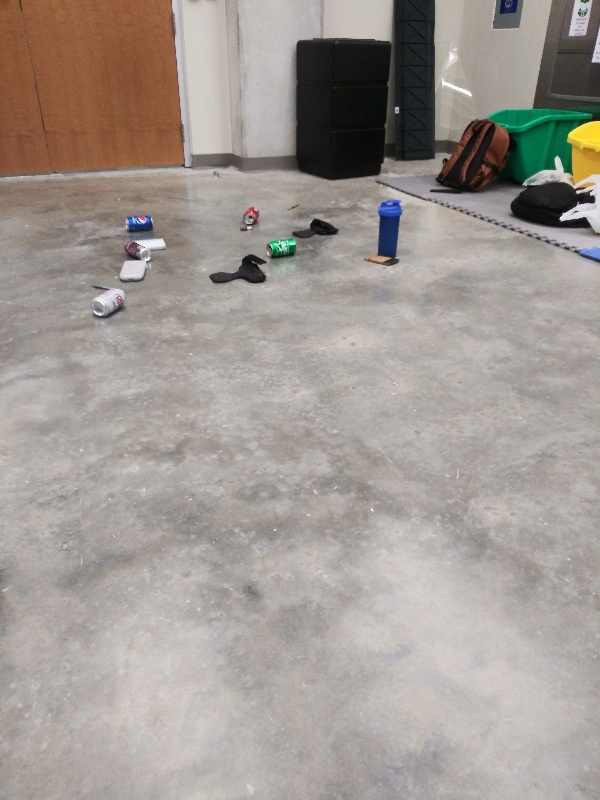can: (91, 286, 129, 319), (262, 235, 303, 259), (124, 236, 152, 262), (119, 215, 158, 231), (242, 203, 261, 228)
